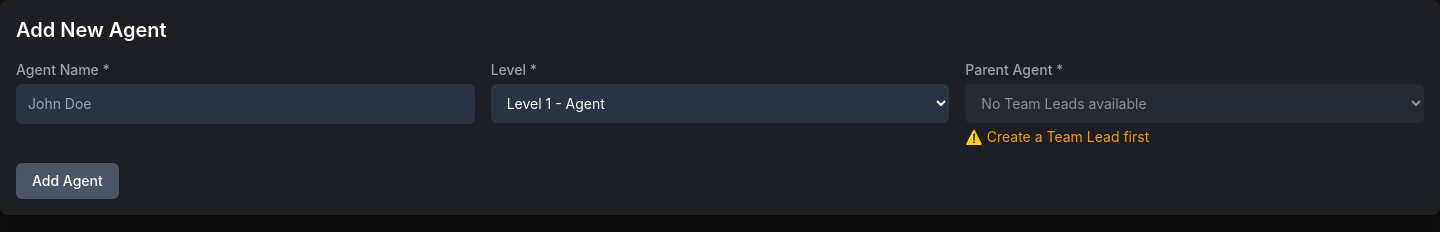
Test: AgentForm › displays error message on submission failure
Type "Duplicate Agent" into the field labelled "Agent Name *" at {"x": 245, "y": 104}, box [16,84,475,124]
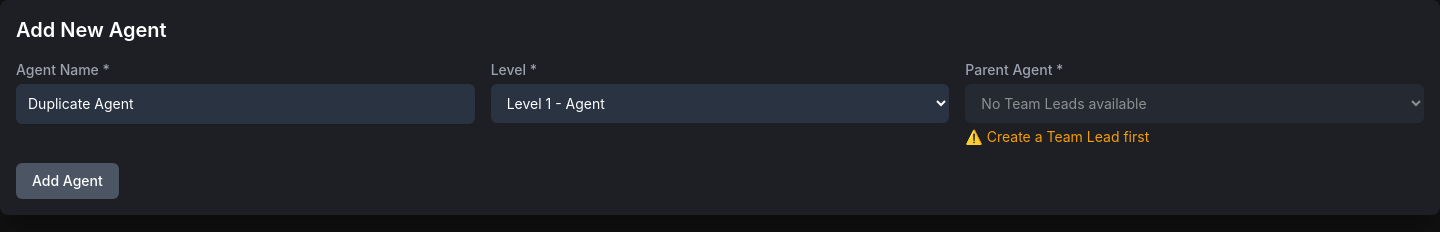
Select "Level 4 - Director" in the dropdown labelled "Level *" at {"x": 720, "y": 104}, box [491,84,949,123]
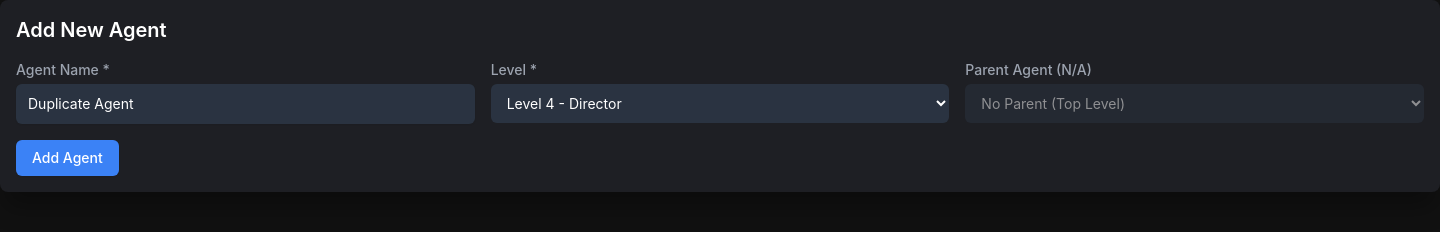
Click the button "Add Agent" at {"x": 67, "y": 158}, box [16,140,119,176]
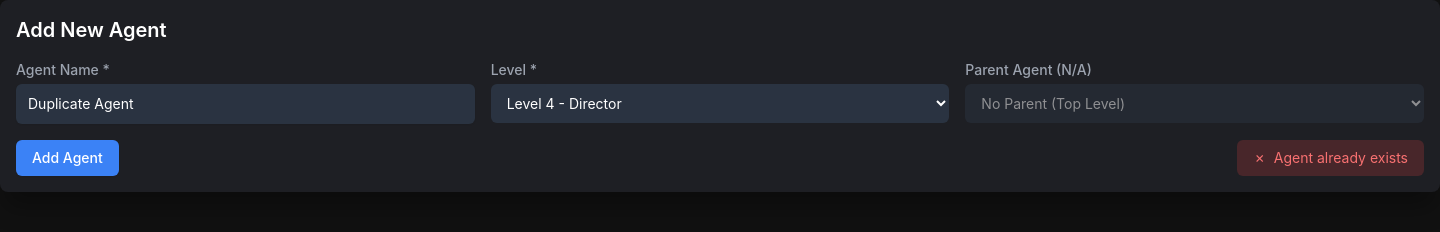
Expected: the text "Agent already exists" is shown, [1274,148,1408,168]
